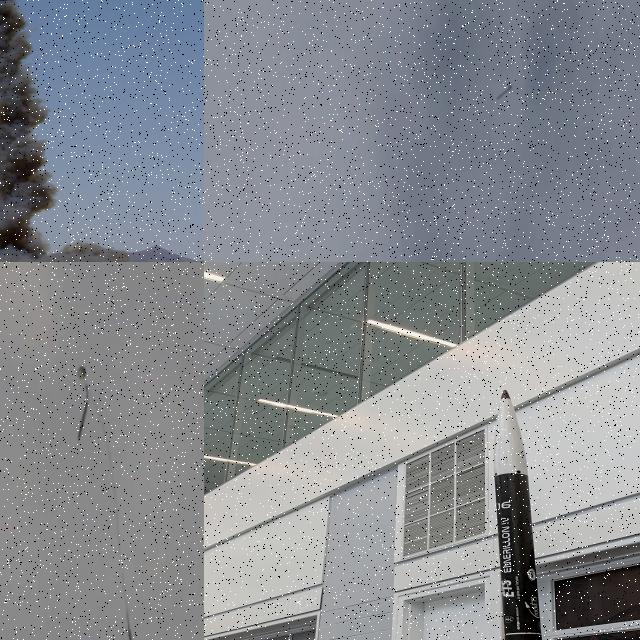Rocket: (493, 390, 542, 640), (497, 84, 512, 100), (126, 627, 137, 640)
